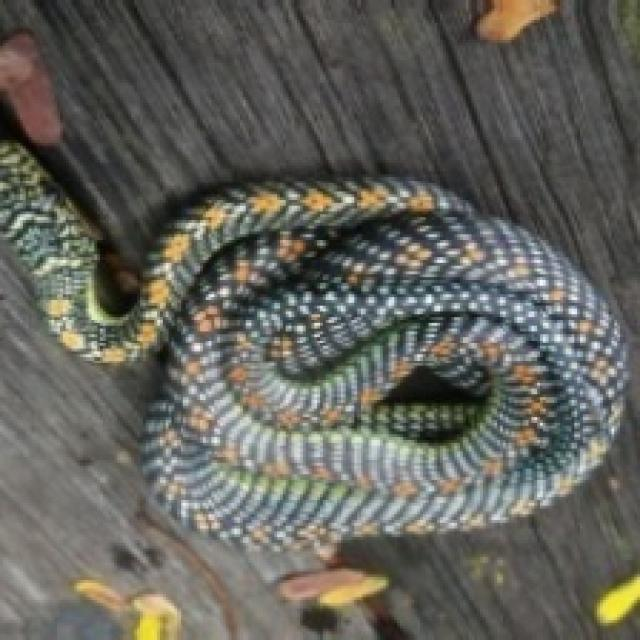paradise tree snake: (0, 140, 623, 549)
